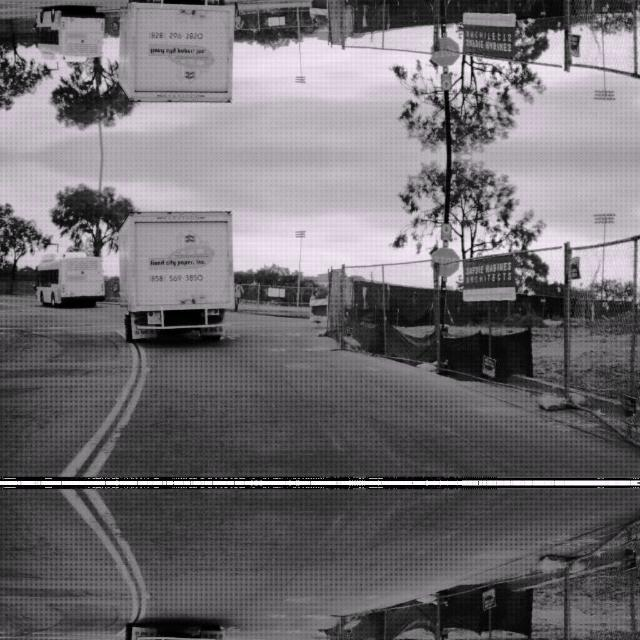stop: (430, 246, 460, 276), (430, 36, 460, 66)
